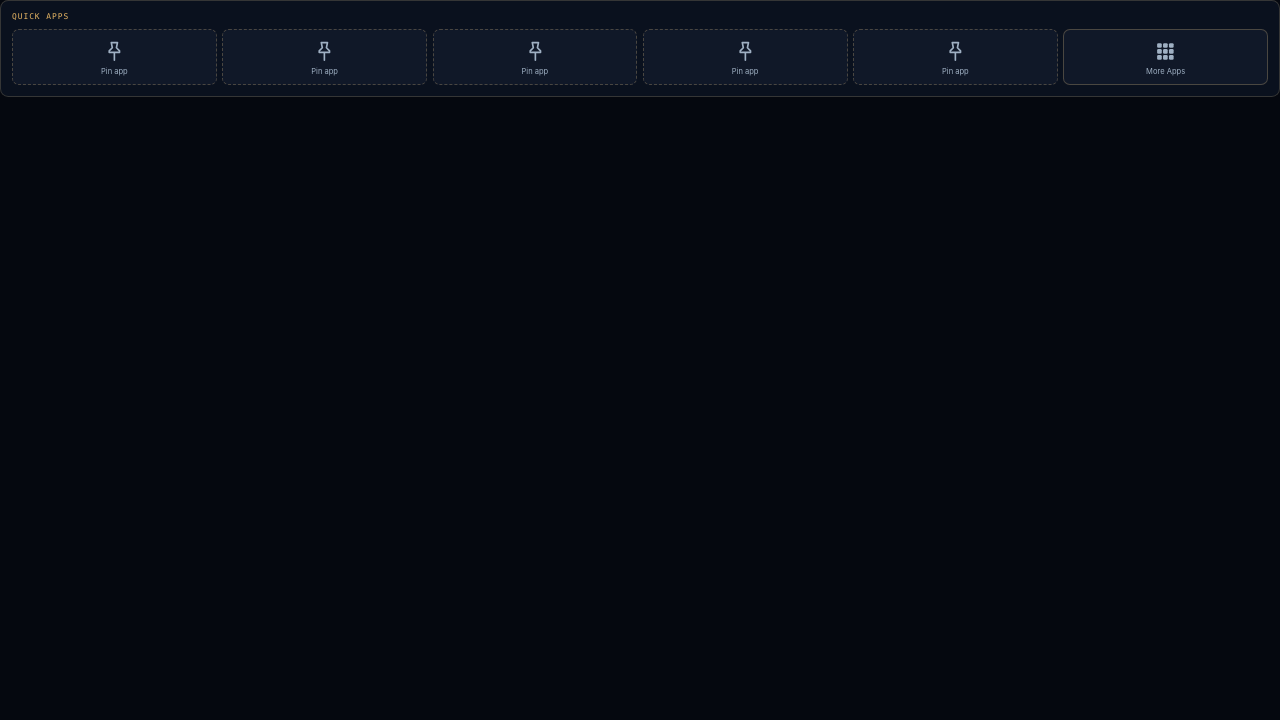
Test case: QuickApps › rejects a non-web URL in the picker, pinning nothing (NIC-146)
Click the 1st button "Pin app" at (114, 57), box top-left (12, 29), bottom-right (217, 85)
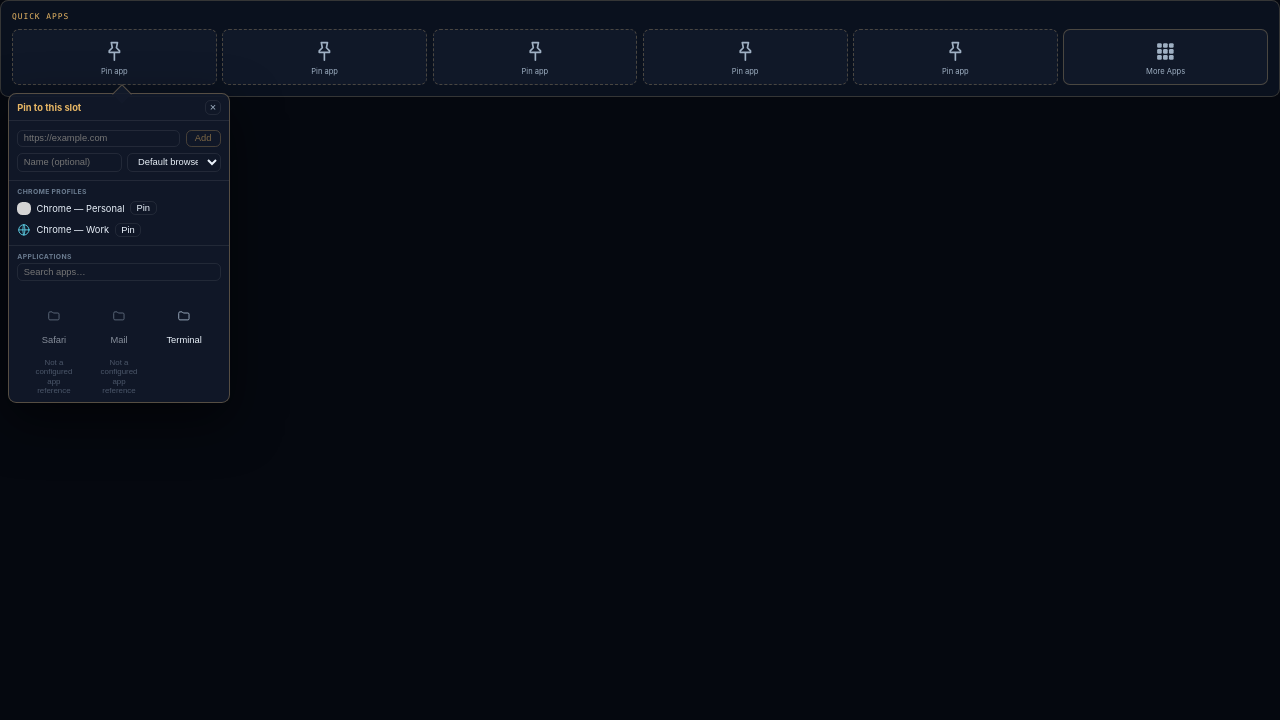
Check: the dialog named "Pin an app" is shown, box top-left (8, 93), bottom-right (230, 403)
Type "file:///etc/passwd" into the field named "URL" at (99, 138), box top-left (17, 130), bottom-right (180, 147)
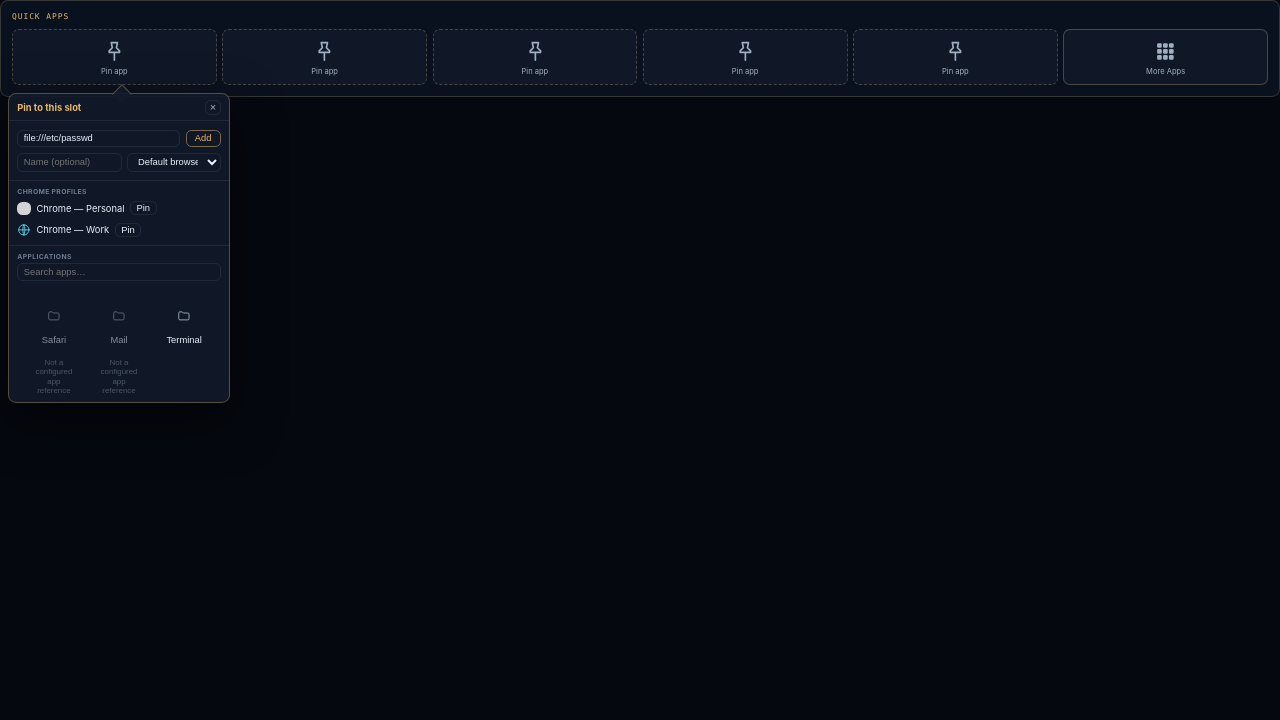
Click the button "Add" at (203, 138), box top-left (186, 130), bottom-right (221, 147)
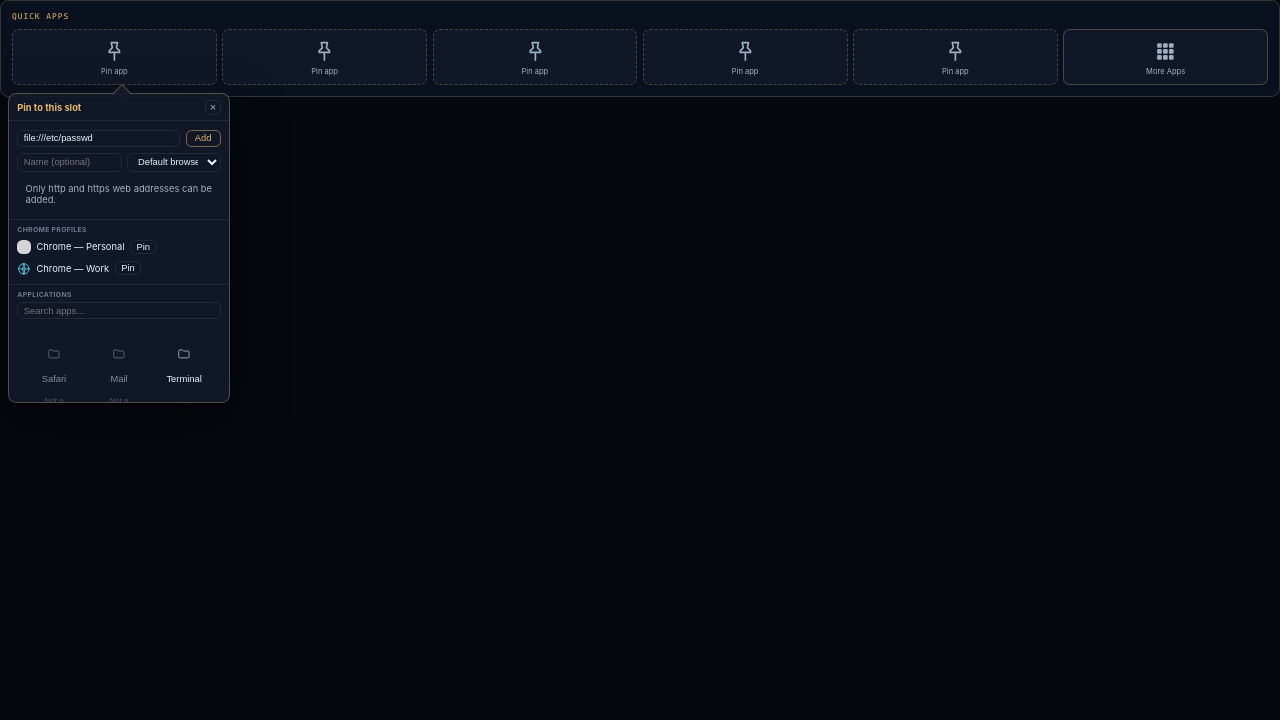
Check: the number of buttons "Pin app" is 5, box top-left (12, 29), bottom-right (217, 85); top-left (222, 29), bottom-right (427, 85); top-left (432, 29), bottom-right (637, 85); top-left (643, 29), bottom-right (848, 85); top-left (853, 29), bottom-right (1058, 85)
Check: the text "Only http and https web addresses can be added." is shown, box top-left (17, 178), bottom-right (221, 211)
